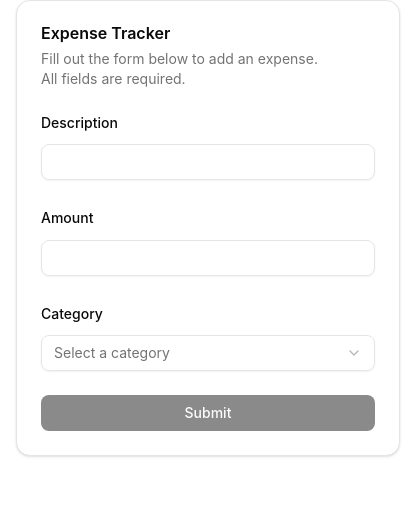
Test: ExpenseTrackerForm › form display and validation › shows error when description is shorter than 3 characters
Type "ab" into the field labelled "Description".
click(208, 162); type("ab")  # box [41, 144, 375, 180]
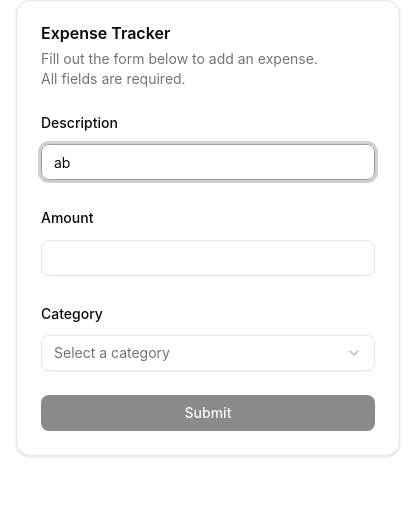
Press Tab
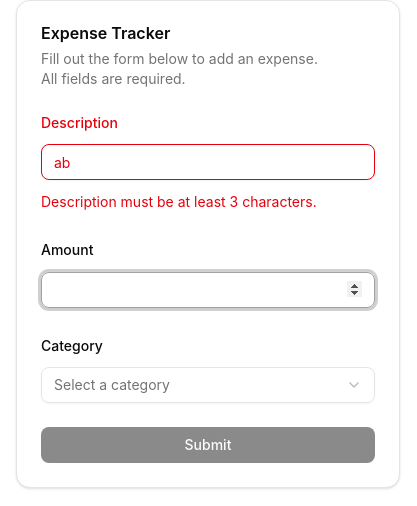
Now the text "Description must be at least 3 characters." is shown, box [41, 193, 317, 210]
